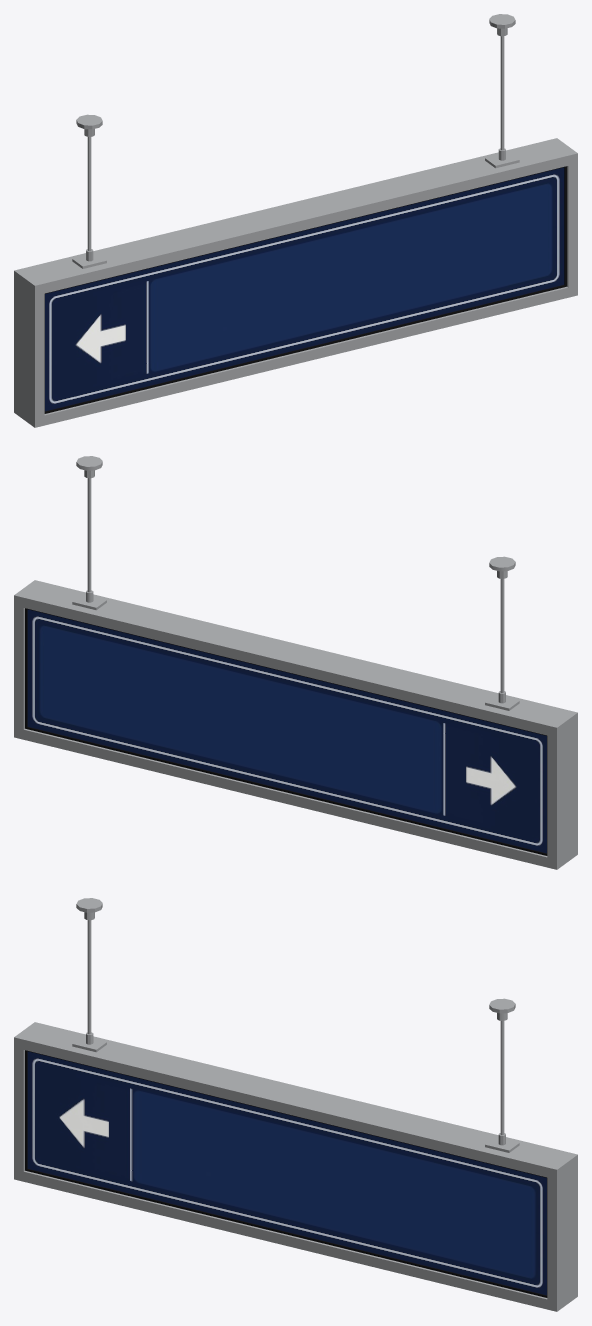
The model's file is gteki_sign_hanging_navy_left.glb.
3 views of the same model, one above another, from view 1: azimuth 30°, elevation 25°; view 2: azimuth 150°, elevation 25°; view 3: azimuth 330°, elevation 25° (orthographic).
Parts seen in each view (by area): view 1: VIS_body; view 2: VIS_body; view 3: VIS_body.
Boxes of the visible parts, x1,y1,x2,y2 form: VIS_body: (14, 14, 577, 427); VIS_body: (14, 456, 577, 869); VIS_body: (14, 898, 577, 1311).
Bounding box in the file's own units: 1.8 × 0.9 × 0.12.
3 materials, 3 textured.
